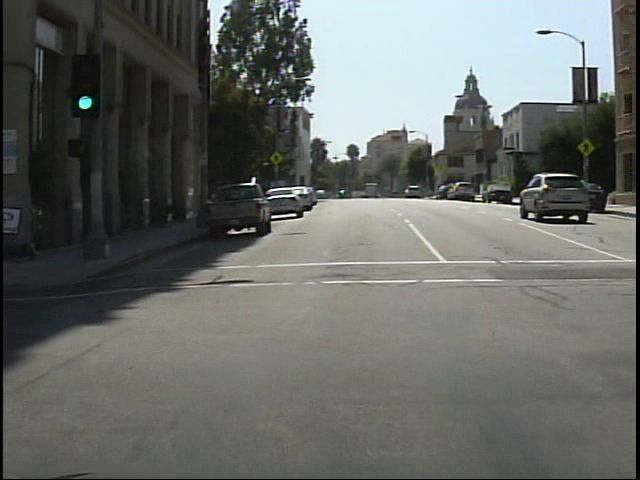person: (3, 162, 14, 276)
